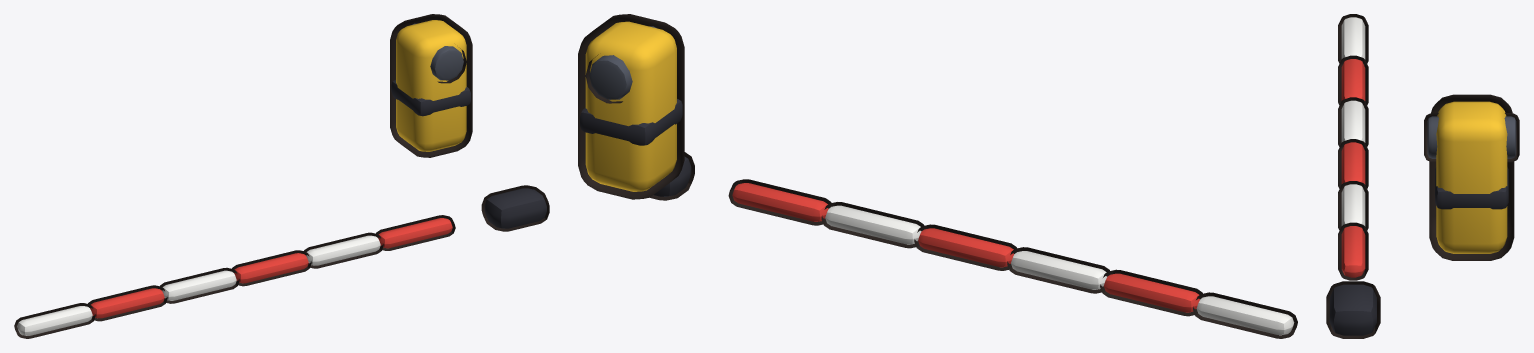
The model's file is CrossingBarrier.fbx.
The picture shows the model from 3 angles, left to right: view 1: azimuth 30°, elevation 25°; view 2: azimuth 150°, elevation 25°; view 3: azimuth 270°, elevation 25°; orthographic projection. The views are drawn at different scales.
Parts seen in each view (by area): view 1: PR_CrossingBarrier_Yellow, BoomPivot_Outline, BoomPivot_White, BoomPivot_Red, PR_CrossingBarrier_Outline, BoomPivot_Black, PR_CrossingBarrier_Black, PR_CrossingBarrier_Metal; view 2: PR_CrossingBarrier_Yellow, BoomPivot_White, BoomPivot_Red, BoomPivot_Outline, PR_CrossingBarrier_Outline, PR_CrossingBarrier_Black, PR_CrossingBarrier_Metal, BoomPivot_Black; view 3: PR_CrossingBarrier_Yellow, BoomPivot_Outline, BoomPivot_Red, PR_CrossingBarrier_Outline, BoomPivot_White, BoomPivot_Black, PR_CrossingBarrier_Black, PR_CrossingBarrier_Metal.
Boxes of the visible parts, <box> form: PR_CrossingBarrier_Yellow: <box>396,20,466,151</box>; BoomPivot_Outline: <box>14,185,549,338</box>; BoomPivot_White: <box>17,235,380,335</box>; BoomPivot_Red: <box>90,218,452,318</box>; PR_CrossingBarrier_Outline: <box>390,14,472,157</box>; BoomPivot_Black: <box>484,188,546,228</box>; PR_CrossingBarrier_Black: <box>391,79,470,116</box>; PR_CrossingBarrier_Metal: <box>412,23,463,80</box>; PR_CrossingBarrier_Yellow: <box>585,21,676,191</box>; BoomPivot_White: <box>825,205,1294,335</box>; BoomPivot_Red: <box>732,183,1199,312</box>; BoomPivot_Outline: <box>650,152,1297,338</box>; PR_CrossingBarrier_Outline: <box>578,14,684,199</box>; PR_CrossingBarrier_Black: <box>580,99,682,145</box>; PR_CrossingBarrier_Metal: <box>589,26,656,99</box>; BoomPivot_Black: <box>654,156,691,196</box>; PR_CrossingBarrier_Yellow: <box>1436,101,1507,253</box>; BoomPivot_Outline: <box>1326,14,1380,338</box>; BoomPivot_Red: <box>1341,59,1365,277</box>; PR_CrossingBarrier_Outline: <box>1424,94,1519,260</box>; BoomPivot_White: <box>1341,17,1365,226</box>; BoomPivot_Black: <box>1329,284,1376,335</box>; PR_CrossingBarrier_Black: <box>1435,167,1508,209</box>; PR_CrossingBarrier_Metal: <box>1427,116,1516,158</box>.
Bounding box in the file's own units: 6.11 × 1.91 × 1.63.
